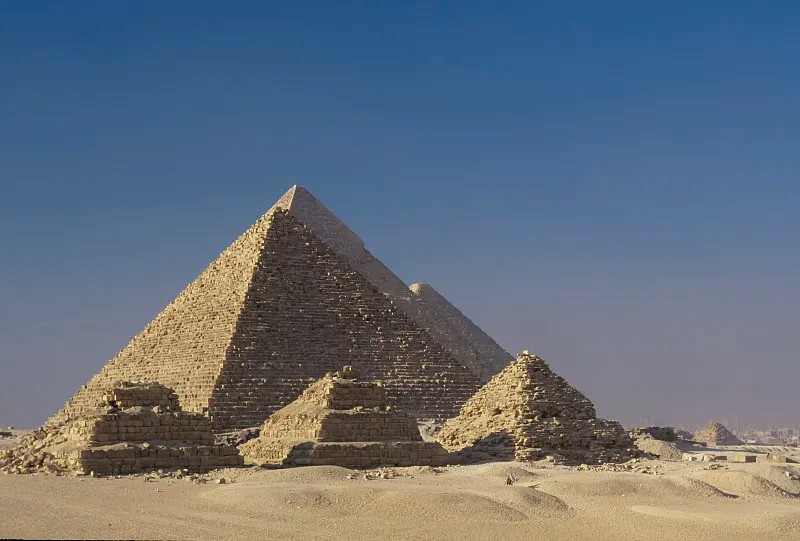Pyramid: (37, 207, 485, 421), (444, 352, 641, 464), (251, 367, 448, 467), (48, 381, 243, 472)
